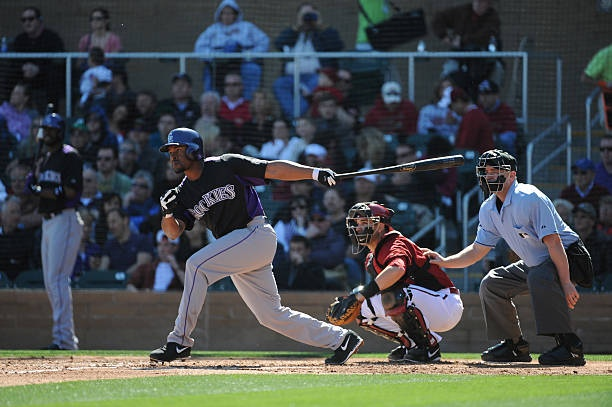bita: (333, 155, 468, 183)
